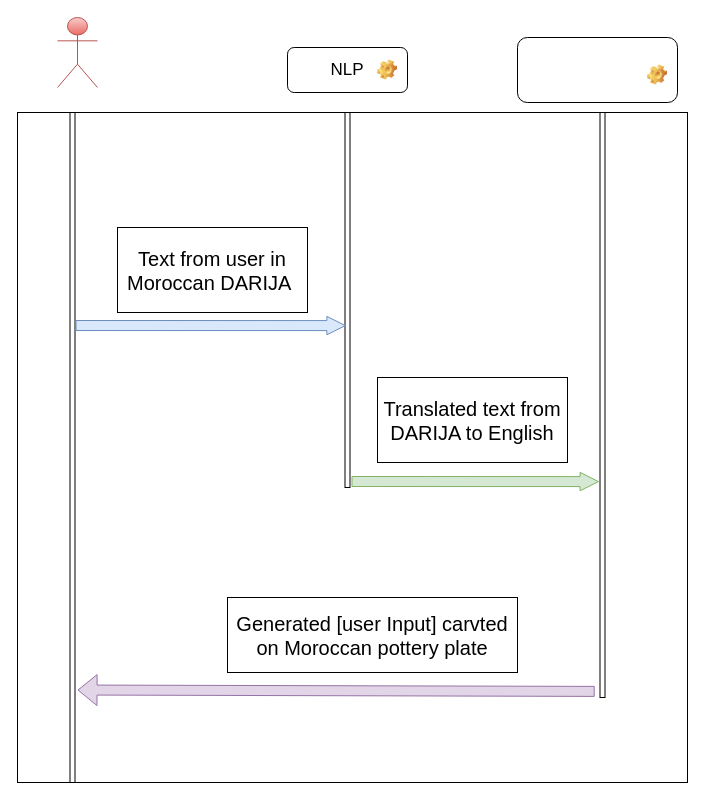
Some shapes in this 705 by 800 pixel diagram are drawn without their labels. Each missing label, with the box of its shape:
ControlNet and DreamBooth: (516, 36, 678, 102)
User: (56, 16, 98, 88)
